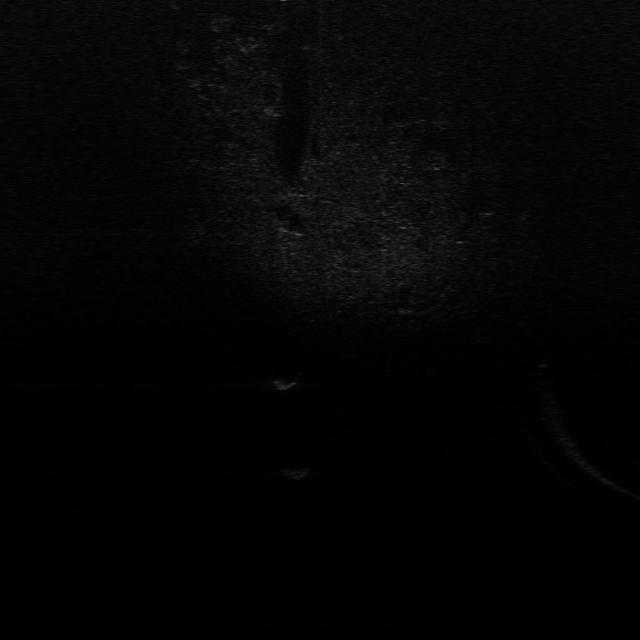cube: (278, 464, 312, 481)
square cage: (269, 370, 303, 392)
